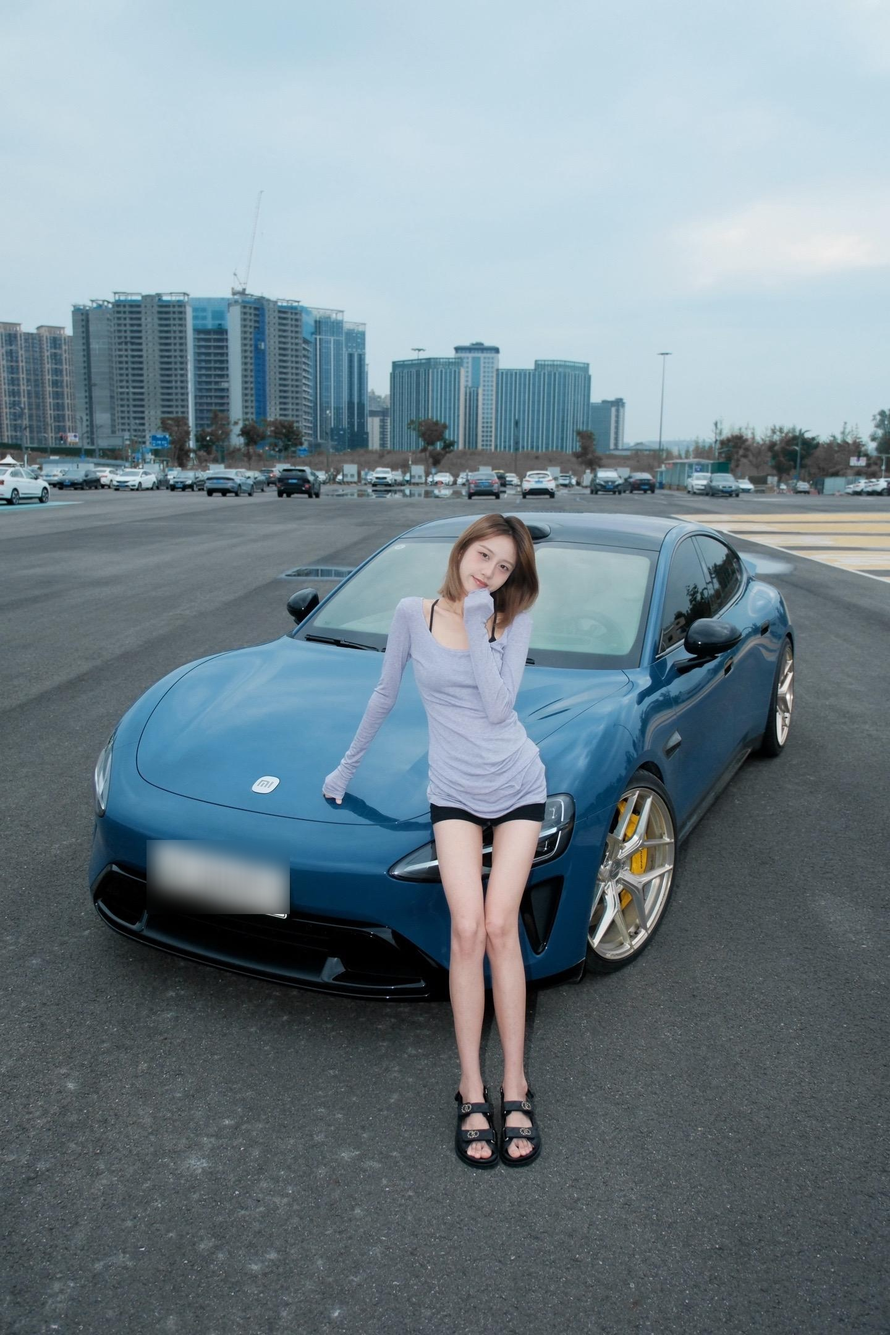other: (278, 457, 321, 506), (0, 467, 49, 507), (205, 467, 254, 501), (110, 468, 151, 495), (703, 471, 739, 501), (470, 467, 502, 497), (520, 468, 556, 493), (592, 467, 622, 497), (167, 470, 200, 494), (624, 468, 654, 490), (367, 465, 396, 484)
su7: (67, 499, 807, 991)
